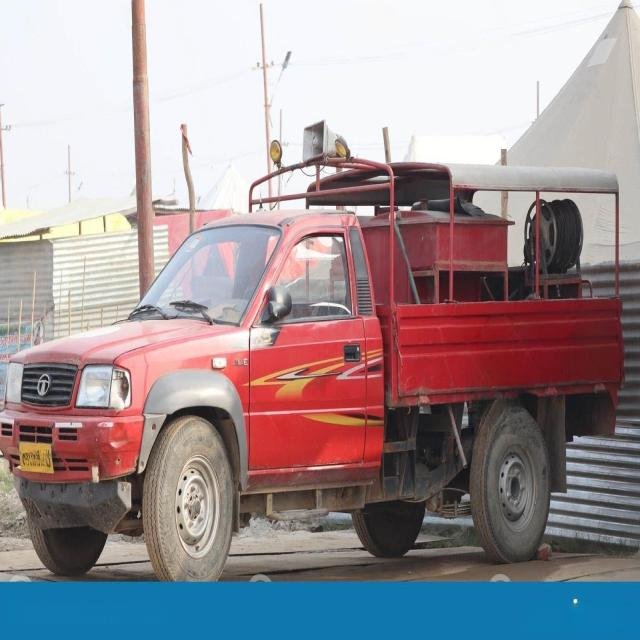emergency: (0, 121, 624, 581)
